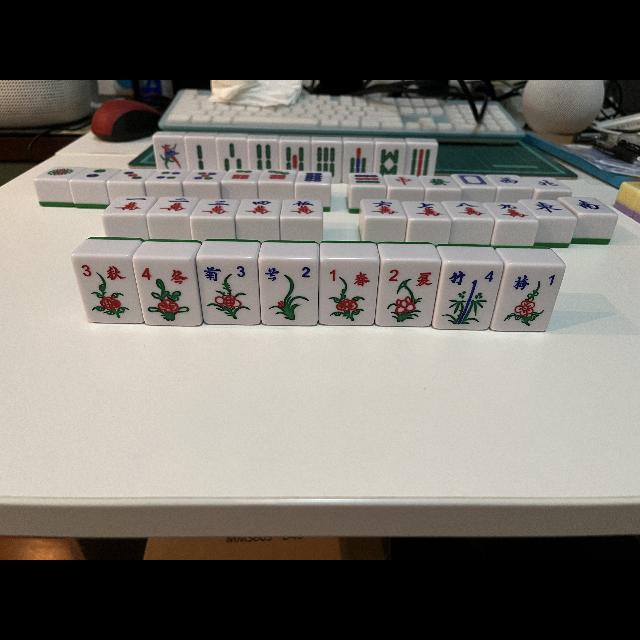f1: (502, 265, 562, 293)
f2: (260, 262, 318, 286)
f3: (197, 259, 260, 287)
f4: (440, 264, 500, 290)
s1: (322, 261, 374, 291)
s2: (380, 260, 436, 292)
s3: (74, 256, 132, 286)
s4: (136, 258, 202, 286)
